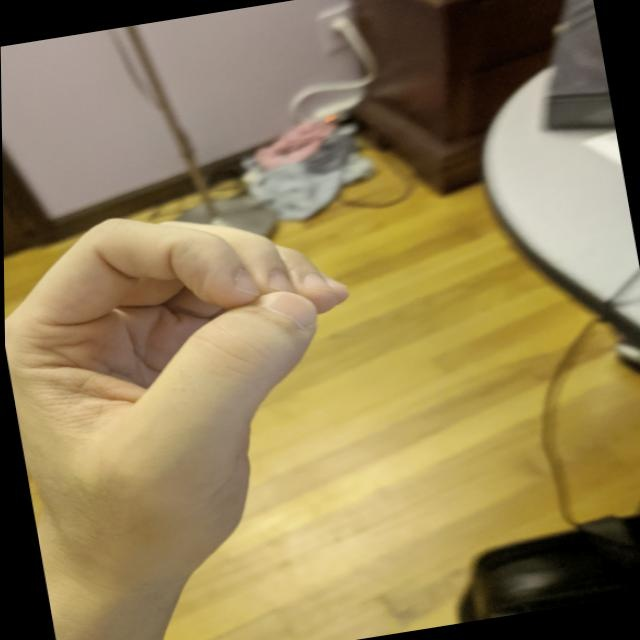O: (2, 174, 402, 596)
